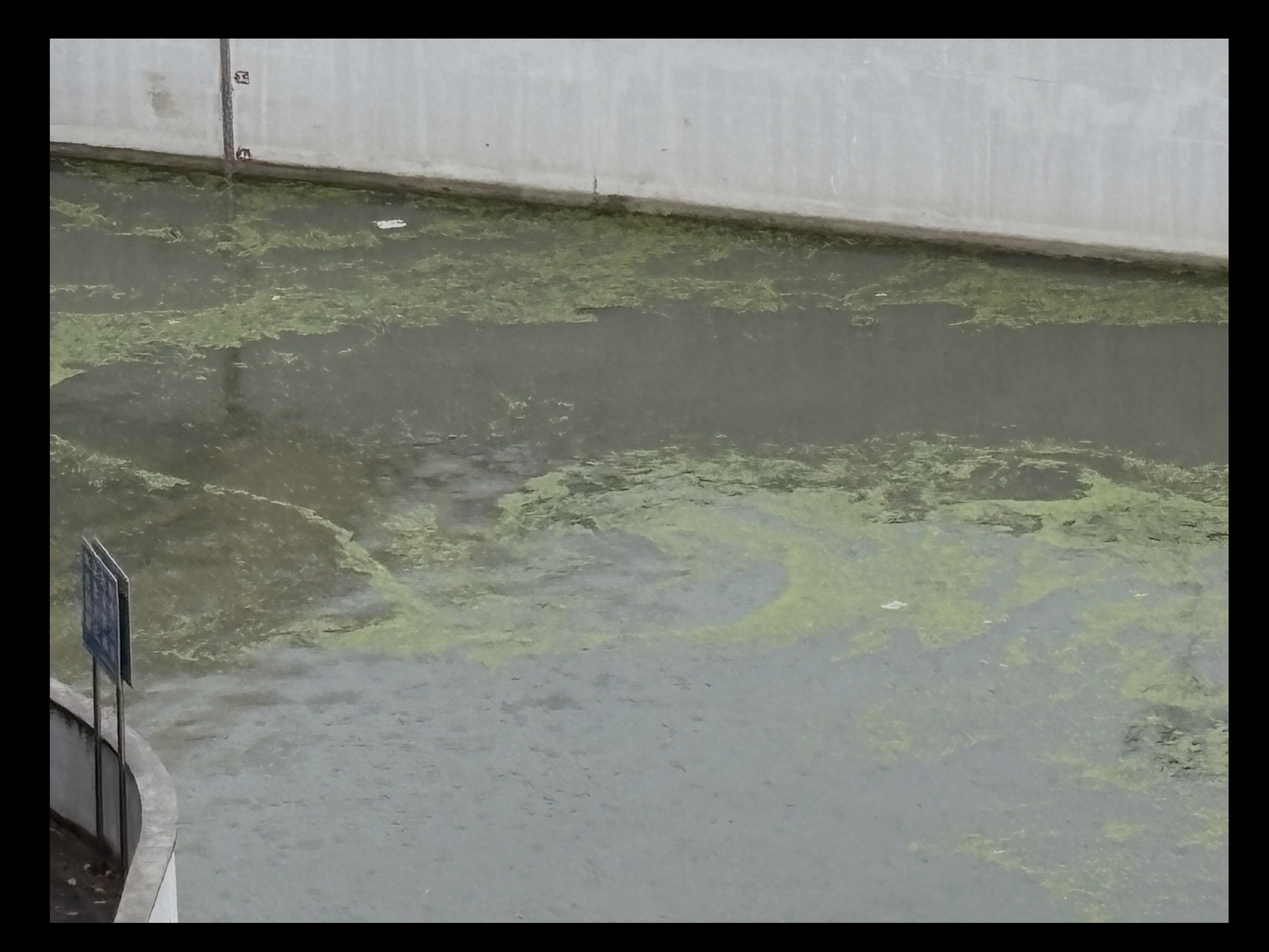Other: (531, 460, 852, 546), (895, 254, 1228, 326), (252, 278, 621, 332), (973, 501, 1221, 563), (1131, 682, 1228, 780), (51, 315, 244, 358), (791, 547, 874, 618)
Plastic wastes: (369, 212, 408, 231), (879, 599, 912, 612)
